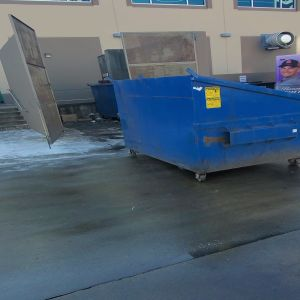Dumpster: (115, 81, 300, 182)
Person: (277, 59, 300, 91)
